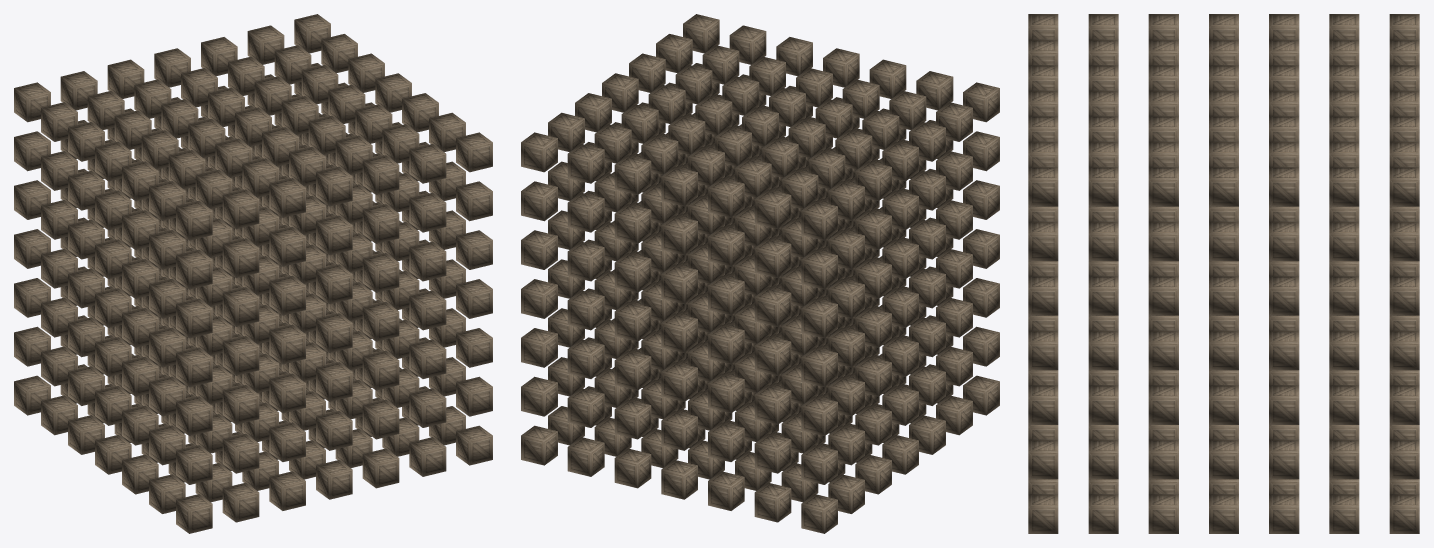
File: cubes2.dae
The picture shows the model from 3 angles, left to right: view 1: azimuth 30°, elevation 25°; view 2: azimuth 150°, elevation 25°; view 3: azimuth 270°, elevation 25°; orthographic projection. The views are drawn at different scales.
Parts seen in each view (by area): view 1: cube_006, cube, cube_005, cube_002, cube_003; view 2: cube_003, cube, cube_002, cube_005, cube_006; view 3: cube, cube_005, cube_006, cube_002, cube_003.
Boxes of the visible parts, x1=… form: cube_006: x1=176, y1=132, x2=492, y2=533; cube: x1=68, y1=53, x2=438, y2=494; cube_005: x1=149, y1=112, x2=465, y2=513; cube_002: x1=41, y1=34, x2=357, y2=435; cube_003: x1=14, y1=14, x2=330, y2=415; cube_003: x1=521, y1=132, x2=837, y2=533; cube: x1=575, y1=53, x2=945, y2=494; cube_002: x1=548, y1=112, x2=864, y2=513; cube_005: x1=656, y1=34, x2=972, y2=435; cube_006: x1=683, y1=14, x2=999, y2=415; cube: x1=1148, y1=14, x2=1299, y2=533; cube_005: x1=1088, y1=14, x2=1118, y2=533; cube_006: x1=1028, y1=14, x2=1058, y2=533; cube_002: x1=1329, y1=14, x2=1359, y2=533; cube_003: x1=1389, y1=14, x2=1419, y2=533.
Size of the model in its own units: 26 by 26 by 26.
Materials: 1 (1 with a texture image).
